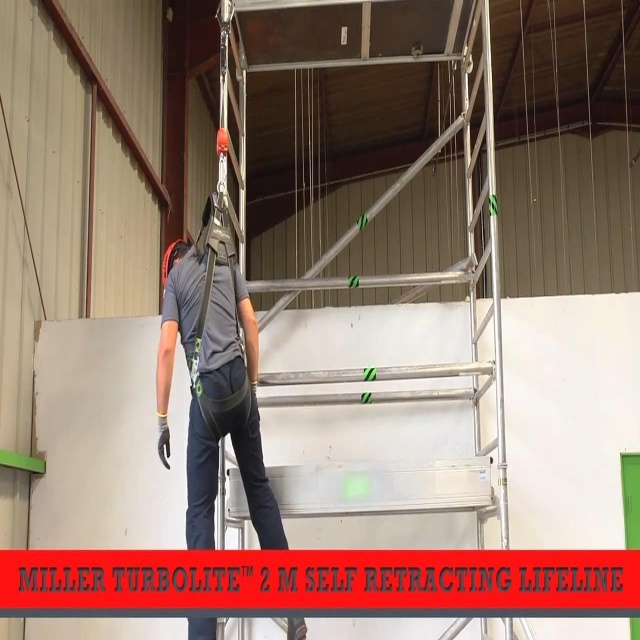Arnes_seguridad: (173, 107, 256, 448)
